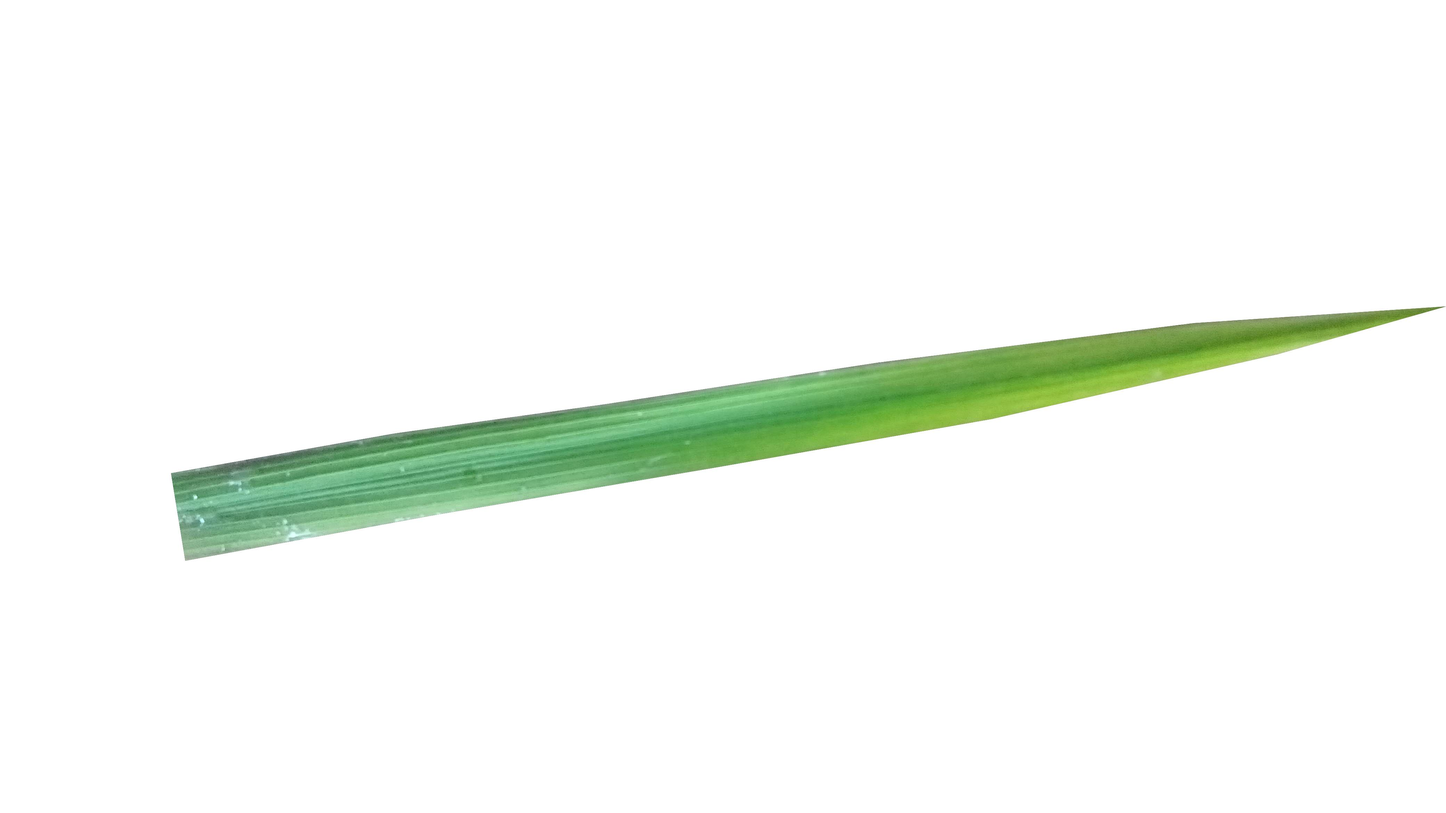Tungro: (772, 325, 1371, 457)
